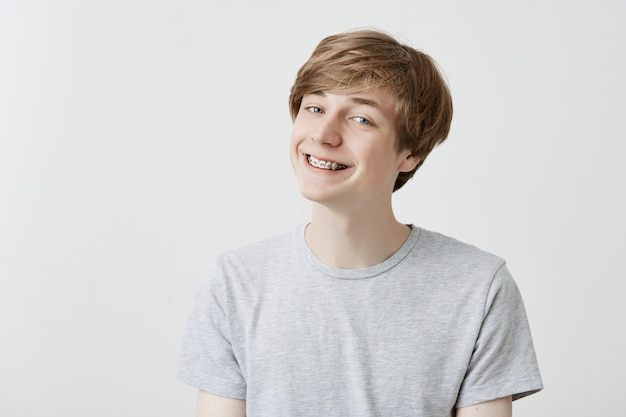teen: (266, 33, 436, 235)
